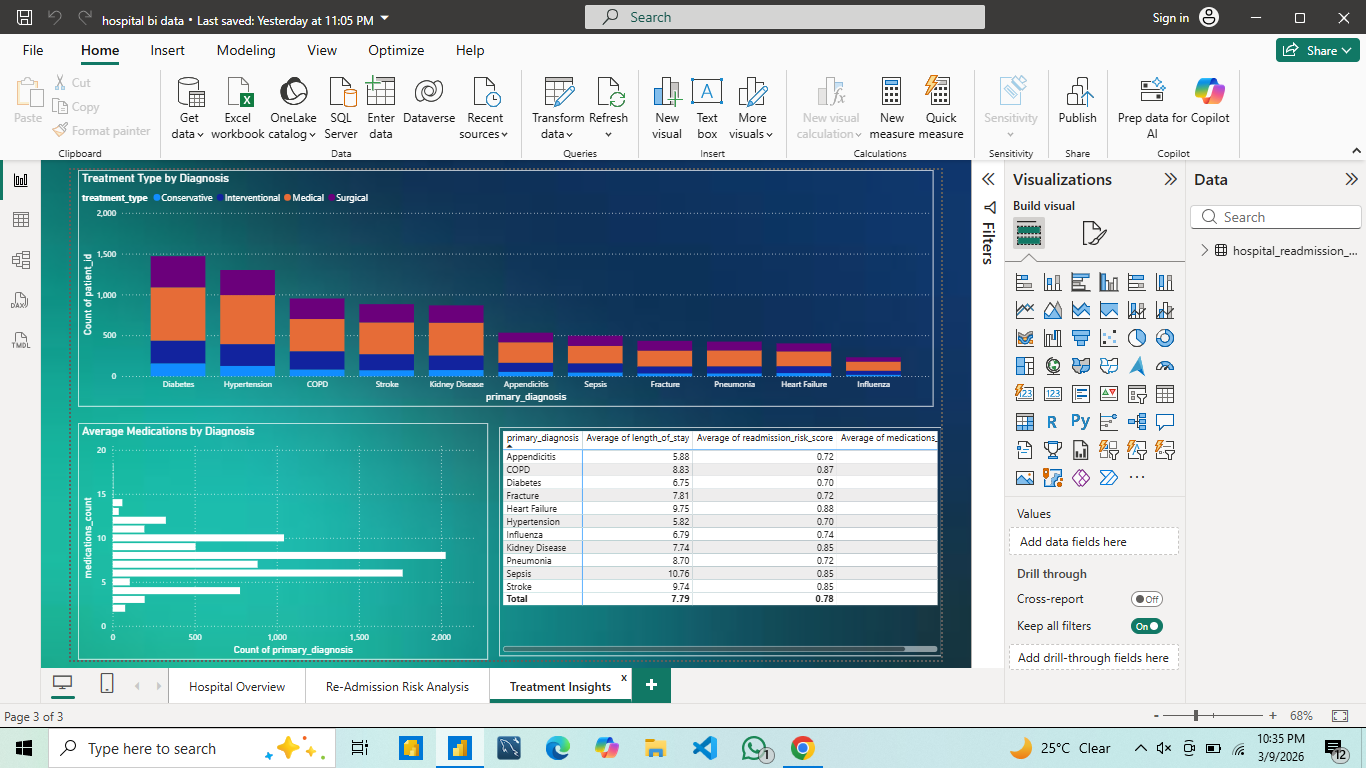

What the dashboard file says about the page in this screenshot:
{"tool":"powerbi","page":{"name":"Treatment Insights ","canvas":[1280,720],"ordinal":2},"visuals":[{"type":"columnChart","title":"Treatment Type by Diagnosis ","fields":{"Category":["hospital_readmission_dataset.primary_diagnosis"],"Series":["hospital_readmission_dataset.treatment_type"],"Y":["CountNonNull(hospital_readmission_dataset.patient_id)"]},"box":[10.4,0,1258.2,347.8],"z":0},{"type":"clusteredBarChart","title":"Average Medications by Diagnosis ","fields":{"Y":["CountNonNull(hospital_readmission_dataset.primary_diagnosis)"],"Category":["hospital_readmission_dataset.medications_count"]},"box":[10.4,371.6,603,347.8],"z":1000},{"type":"pivotTable","fields":{"Rows":["hospital_readmission_dataset.primary_diagnosis"],"Values":["Avg(hospital_readmission_dataset.length_of_stay)","Avg(hospital_readmission_dataset.readmission_risk_score)","Avg(hospital_readmission_dataset.medications_count)"]},"box":[629.9,377.6,650.7,337.3],"z":1001}]}

Visuals, with their boxes on the page's 1280x720 design canvas (x1, y1, x2, y2). These are canvas units, not pixel positions in the 1366x768 screenshot, which may show the page scaled, cropped or inside an application window:
"Treatment Type by Diagnosis " columnChart: left=10, top=0, right=1269, bottom=348
"Average Medications by Diagnosis " clusteredBarChart: left=10, top=372, right=613, bottom=719
pivotTable - hospital_readmission_dataset.primary_diagnosis x Avg(hospital_readmission_dataset.length_of_stay): left=630, top=378, right=1281, bottom=715
